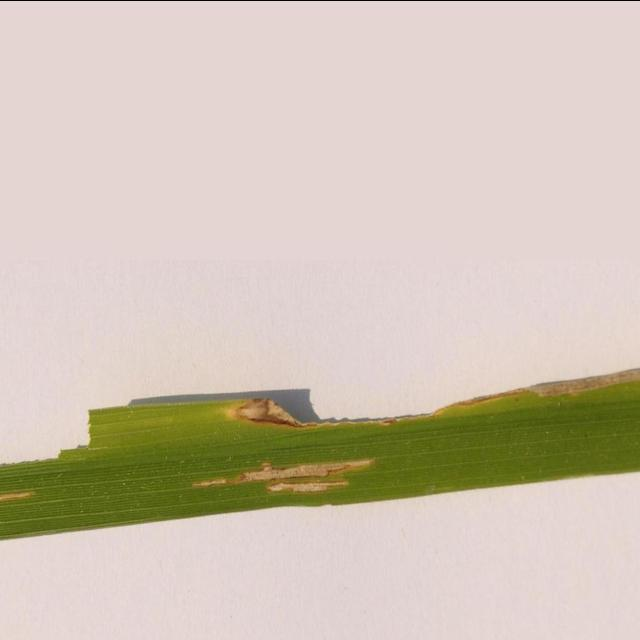Bacterial leaf blight: (222, 352, 640, 426), (174, 450, 384, 501), (0, 472, 42, 519)
